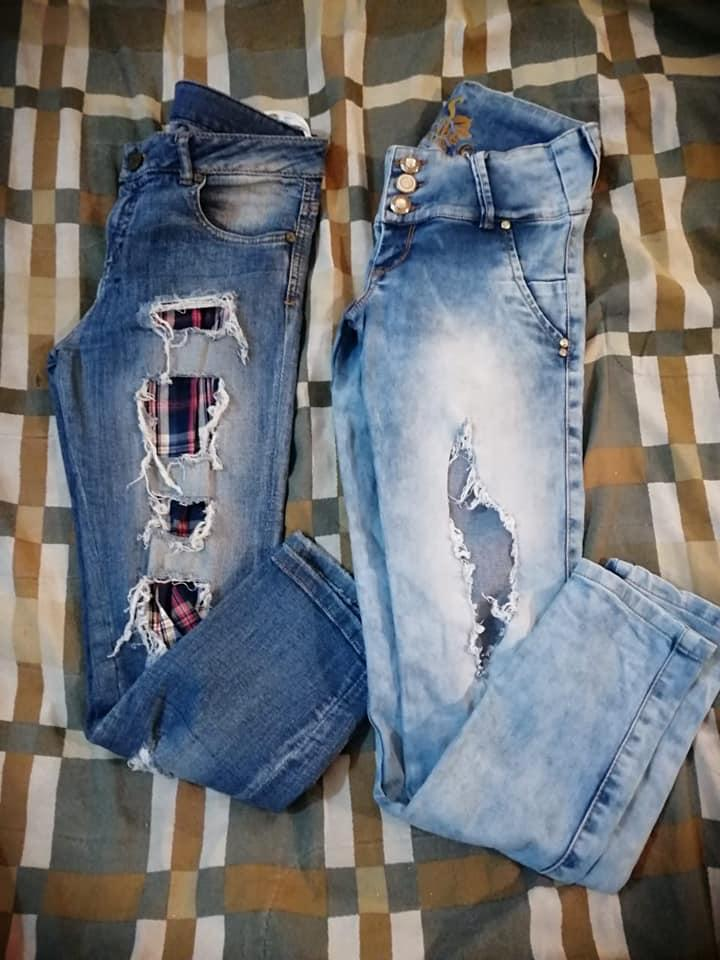Jeans: (315, 65, 720, 908)
